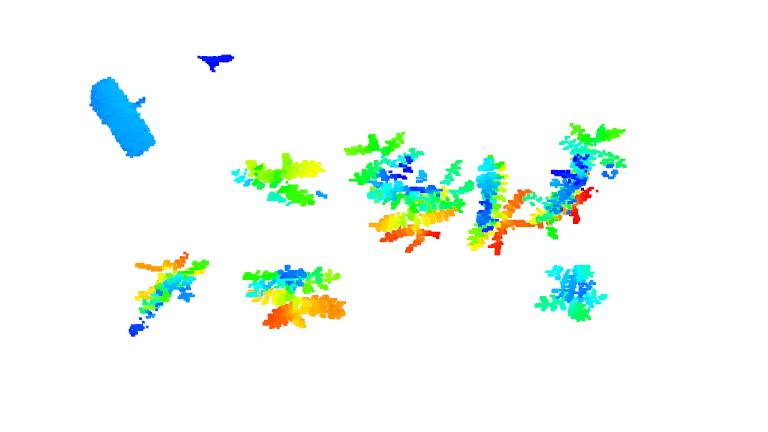chickpea: (349, 132, 471, 252), (539, 122, 630, 231), (241, 261, 352, 335), (463, 154, 541, 256), (125, 250, 210, 322), (231, 149, 327, 212), (536, 259, 607, 321)
